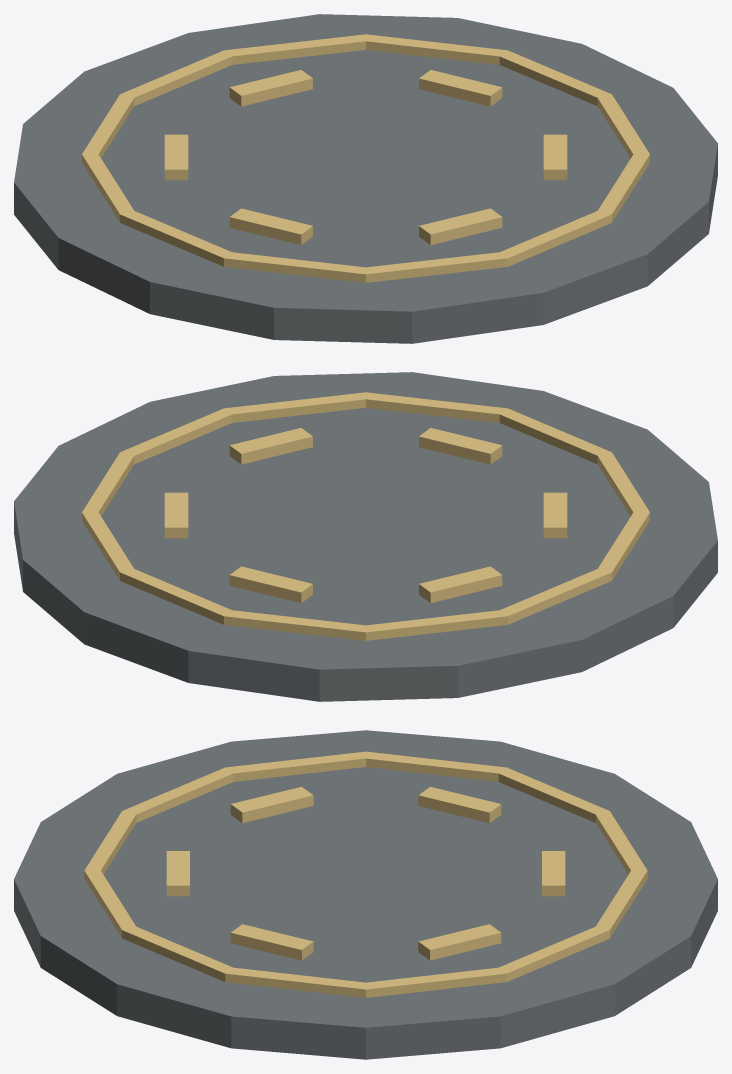
The model's file is dungeon-room-builder-ritual-circle-be21ff55__25879.glb.
3 views of the same model, one above another, from view 1: azimuth 30°, elevation 25°; view 2: azimuth 150°, elevation 25°; view 3: azimuth 270°, elevation 25° (orthographic).
Visible parts, largest first — view 1: ritual-circle; view 2: ritual-circle; view 3: ritual-circle.
Part boxes in pixels (x1,y1,x2,y2): ritual-circle: [14, 14, 717, 343]; ritual-circle: [14, 372, 717, 701]; ritual-circle: [14, 730, 717, 1059].
Bounding box in the file's own units: 3 × 0.2001 × 3.
